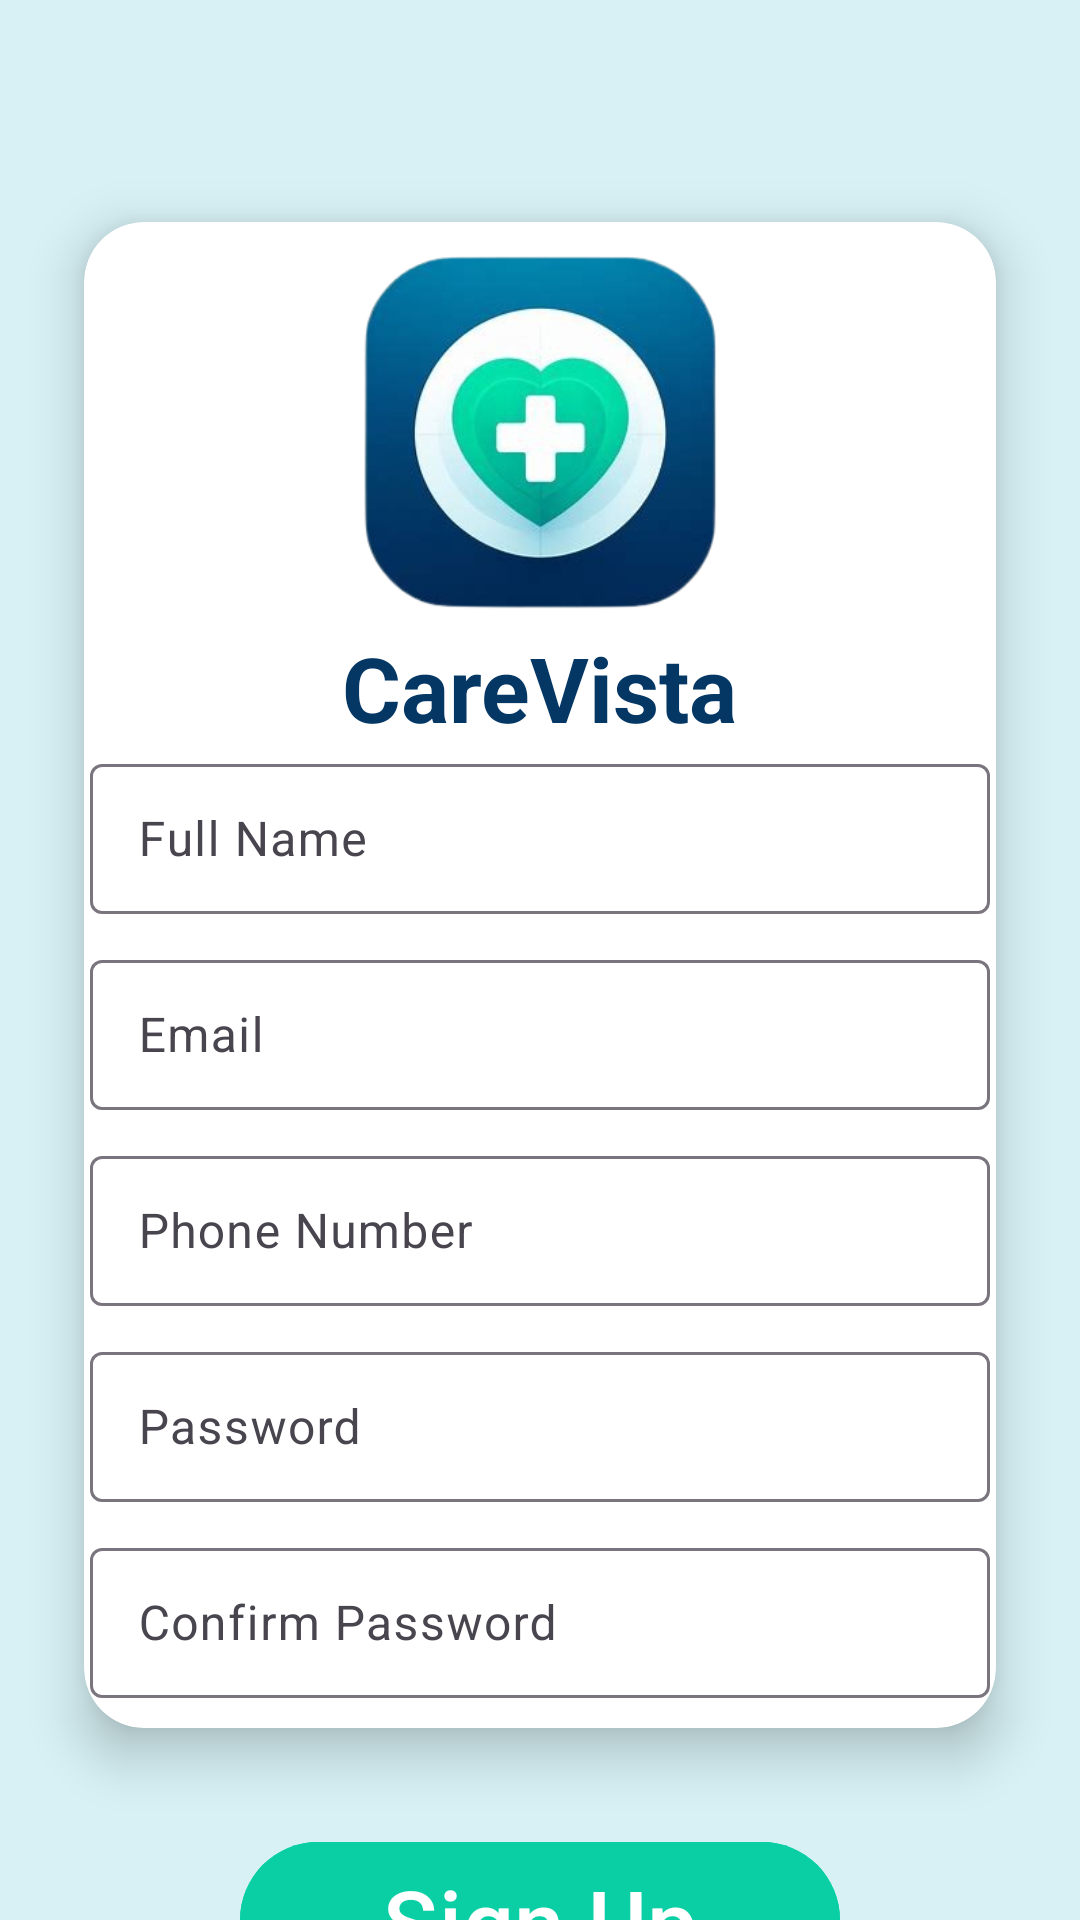

Icon bounding boxes for this 1080px×1920px phone screenshot, format (x1, y1, x2, y2):
app: (364, 257, 716, 608)
